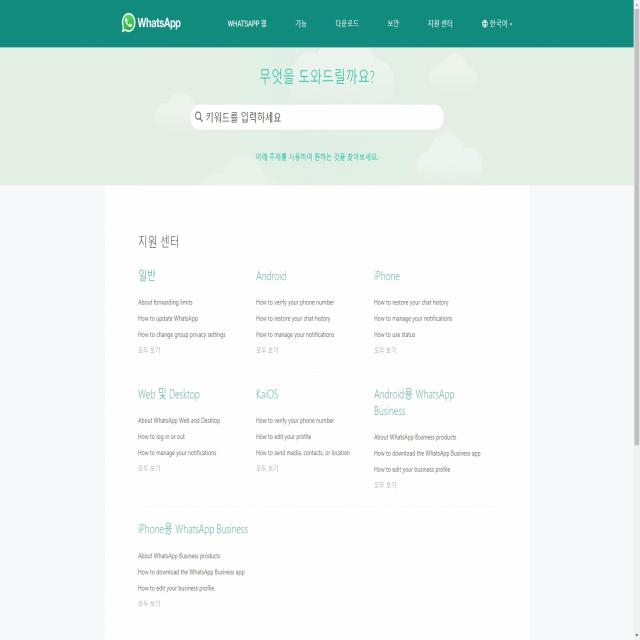menu-bar: (217, 6, 523, 37)
search: (189, 102, 444, 132)
